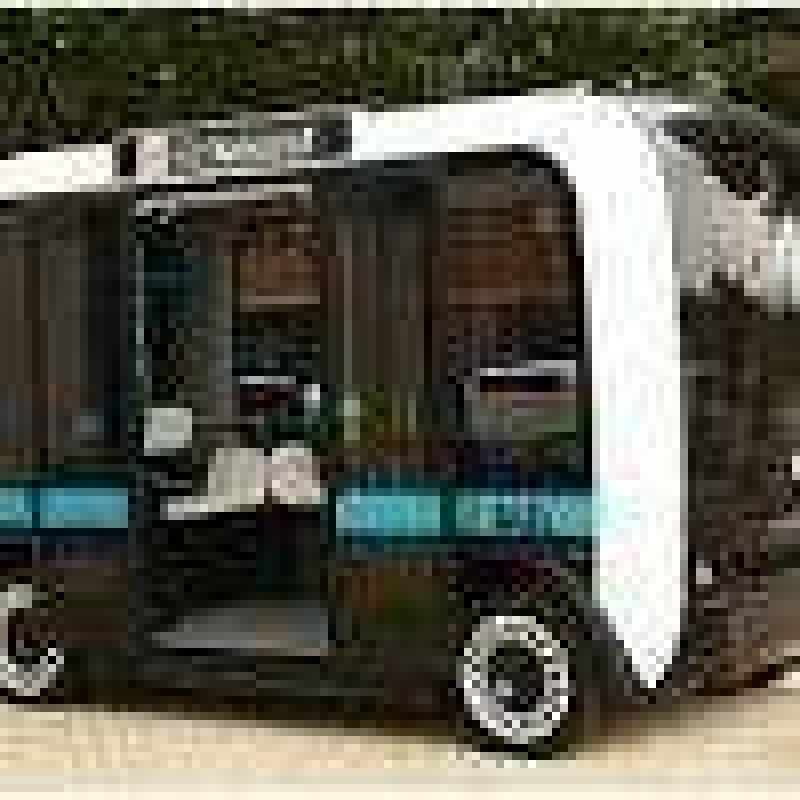bus: (16, 48, 800, 736)
